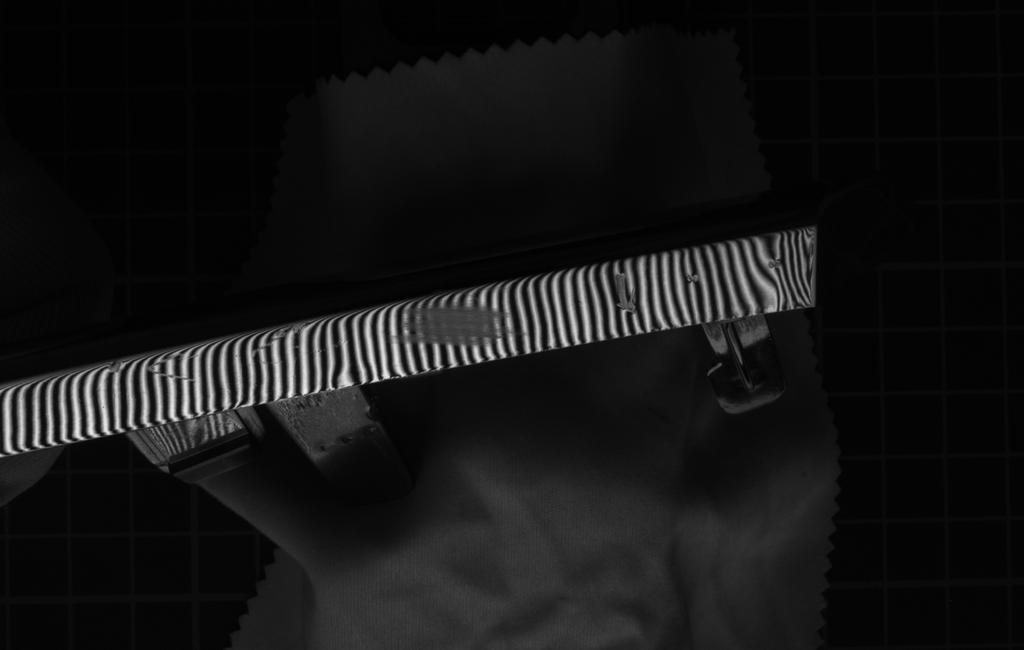Pierced: (102, 358, 128, 378), (762, 253, 789, 271), (680, 270, 707, 287)
Pitting: (389, 299, 538, 355)
Scratch: (247, 319, 313, 371), (146, 346, 211, 387), (608, 262, 650, 325)
